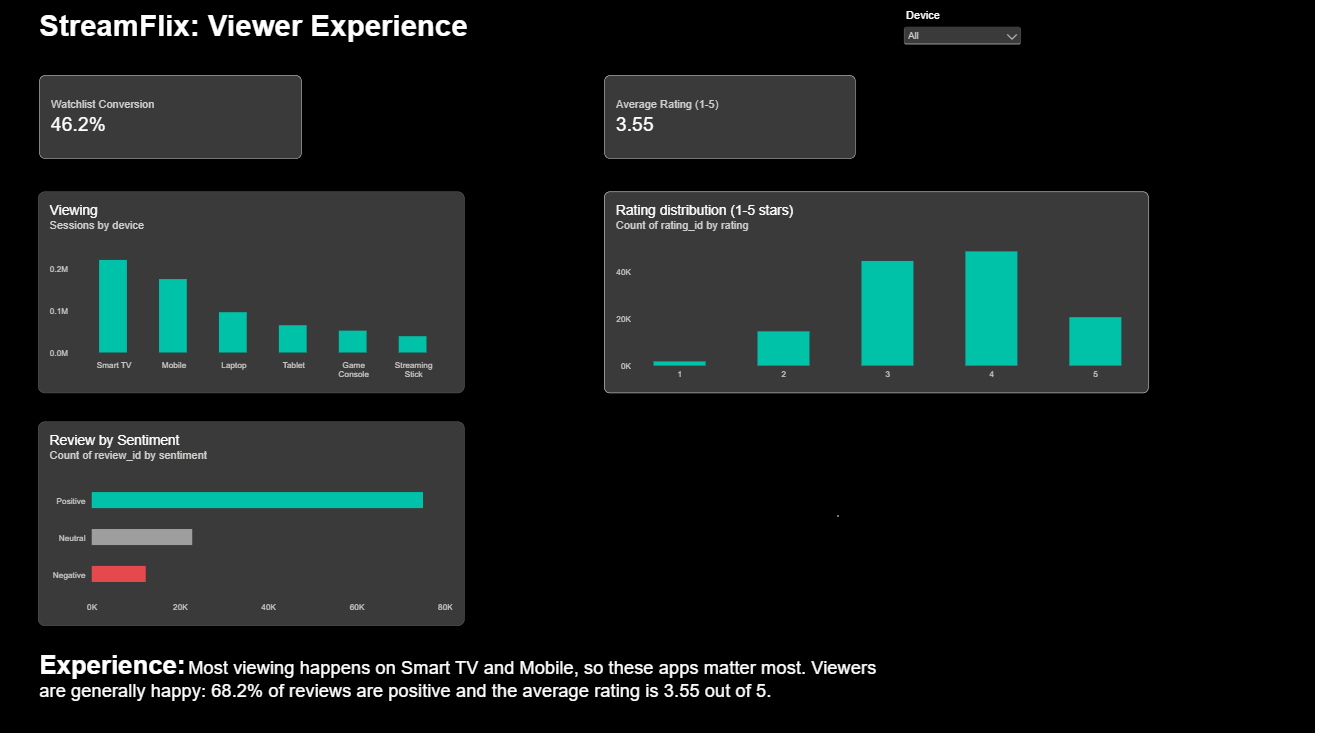

Layout of this report page (visuals, bound fields, positions):
{"tool":"powerbi","page":{"name":"Experience","canvas":[1920,1080],"ordinal":3},"visuals":[{"type":"textbox","box":[59.7,14.4,640.1,59.7],"z":0},{"type":"cardVisual","fields":{"Data":["clean_watch_history.Watchlist Conversion"]},"box":[59.7,111.1,380.8,121.4],"z":1},{"type":"cardVisual","fields":{"Data":["Avg(clean_ratings.rating)"]},"box":[876.8,111.1,364.3,121.4],"z":2},{"type":"clusteredColumnChart","title":"Viewing ","fields":{"Category":["clean_watch_history.device"],"Y":["clean_watch_history.Sessions"]},"box":[57.6,277.9,617.5,292.3],"z":3},{"type":"clusteredColumnChart","title":"Rating distribution (1-5 stars)","fields":{"Category":["clean_ratings.rating"],"Y":["CountNonNull(clean_ratings.rating_id)"]},"box":[876.8,277.9,788.3,292.3],"z":4},{"type":"clusteredBarChart","title":"Review by Sentiment","fields":{"Category":["clean_reviews.sentiment"],"Y":["CountNonNull(clean_reviews.review_id)"]},"box":[57.6,611.3,617.5,296.4],"z":5},{"type":"slicer","fields":{"Values":["clean_watch_history.device"]},"box":[1307,14.4,179.1,59.7],"z":6},{"type":"textbox","box":[59.7,942.7,1228.8,137.9],"z":7}]}

Visuals, with their boxes in screenshot pixels (x1, y1, x2, y2), scaled from the page's 1920x1080 canvas onto the 1323x737 screenshot:
textbox: (x1=41, y1=10, x2=482, y2=51)
cardVisual - clean_watch_history.Watchlist Conversion: (x1=41, y1=76, x2=304, y2=159)
cardVisual - Avg(clean_ratings.rating): (x1=604, y1=76, x2=855, y2=159)
"Viewing " clusteredColumnChart: (x1=40, y1=190, x2=465, y2=389)
"Rating distribution (1-5 stars)" clusteredColumnChart: (x1=604, y1=190, x2=1147, y2=389)
"Review by Sentiment" clusteredBarChart: (x1=40, y1=417, x2=465, y2=619)
slicer - clean_watch_history.device: (x1=901, y1=10, x2=1024, y2=51)
textbox: (x1=41, y1=643, x2=888, y2=736)
